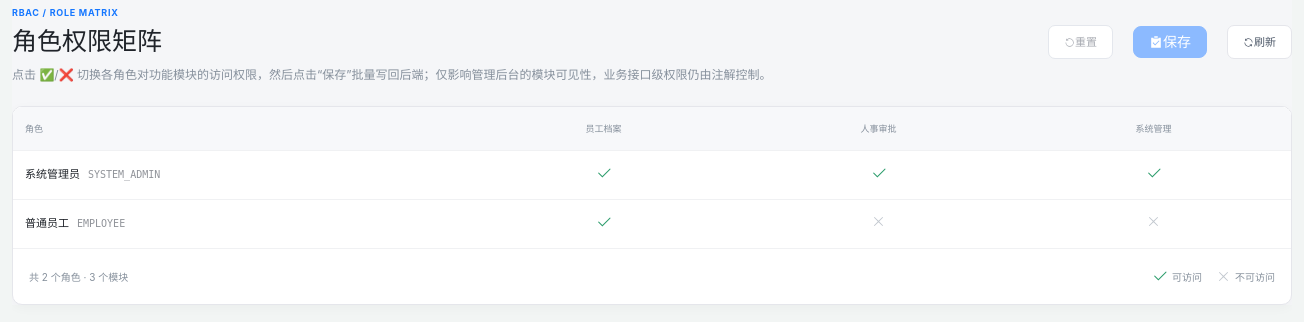
Scenario: RolesView › toggles a denied cell to allowed locally and marks it dirty
Expected: the text "项未保存" is not shown
Click the button with class "cell-cross" at (878, 222), box left=867, top=210, right=890, bottom=235
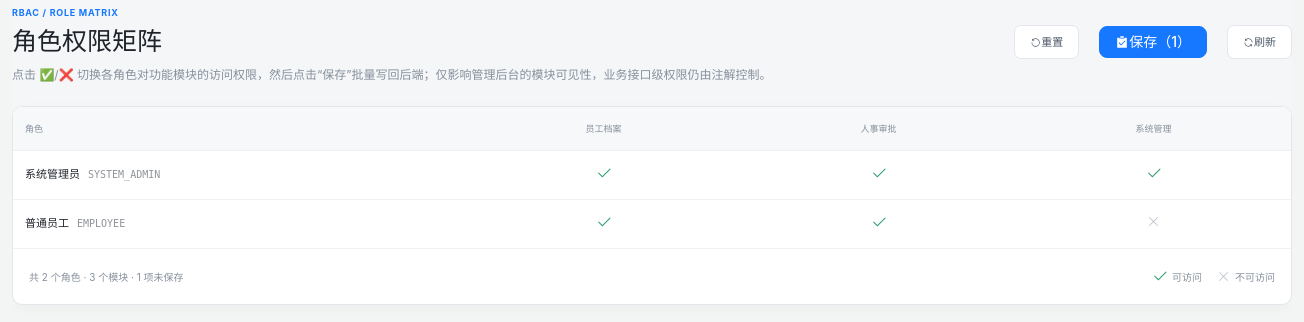
Expected: the text "1 项未保存" is shown, left=29, top=270, right=184, bottom=282
